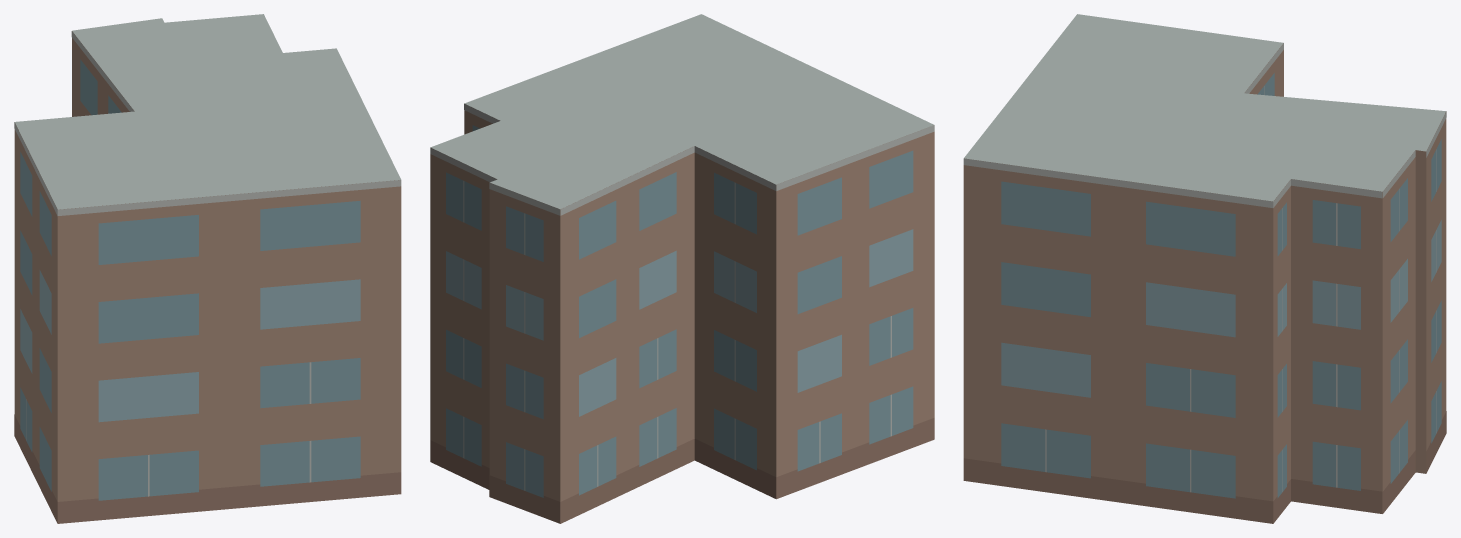
Rendered from survey-upis-32952976.glb.
The picture shows the model from 3 angles, left to right: view 1: azimuth 30°, elevation 25°; view 2: azimuth 150°, elevation 25°; view 3: azimuth 270°, elevation 25°; orthographic projection. The views are drawn at different scales.
Visible parts, largest first — view 1: survey-upis-32952976.tmp; view 2: survey-upis-32952976.tmp; view 3: survey-upis-32952976.tmp.
Part boxes in pixels (x1,y1,x2,y2): survey-upis-32952976.tmp: [14, 14, 401, 523]; survey-upis-32952976.tmp: [430, 14, 934, 523]; survey-upis-32952976.tmp: [963, 14, 1446, 523].
Bounding box in the file's own units: 14.6 × 11.7 × 15.89.
